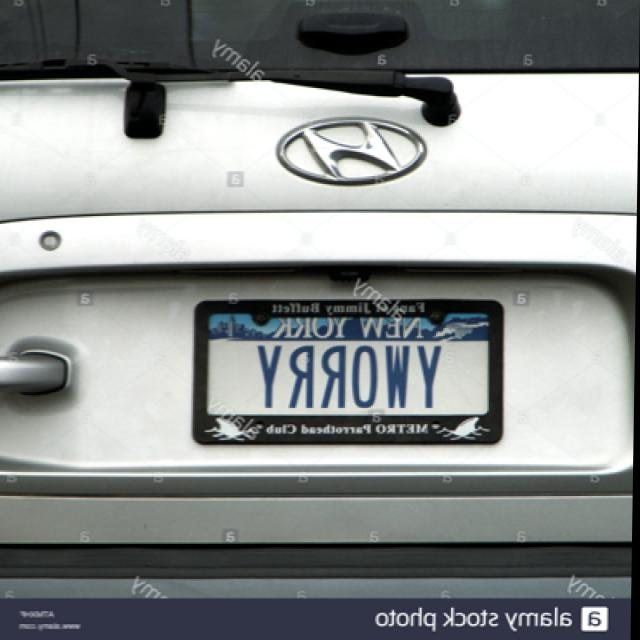licence: (210, 312, 491, 413)
